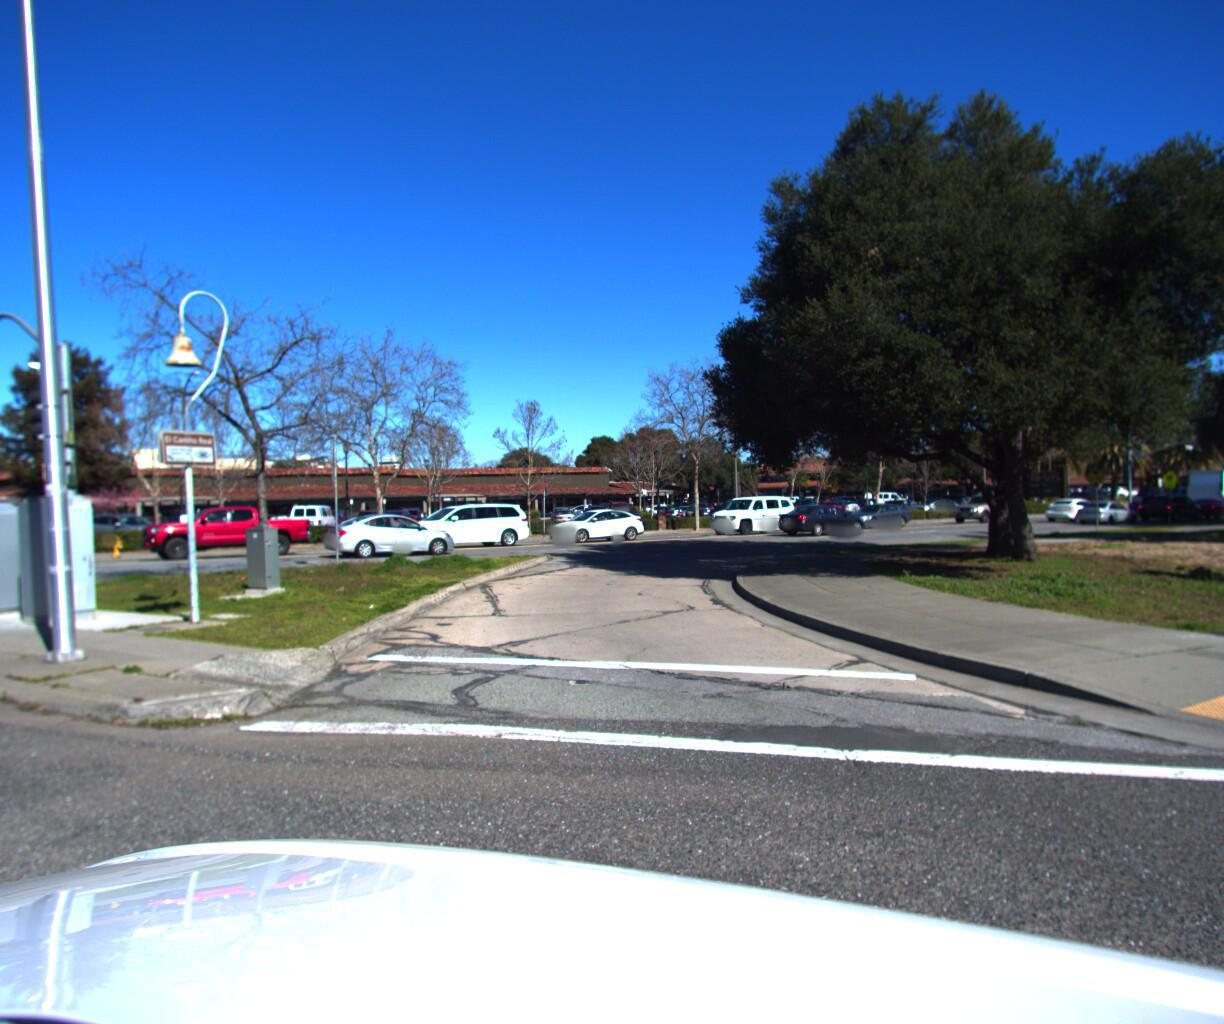car: (131, 500, 319, 565), (313, 508, 468, 560), (389, 498, 534, 550), (702, 482, 803, 534), (542, 502, 653, 541), (767, 498, 869, 534), (74, 508, 174, 542), (834, 495, 920, 531), (947, 489, 1020, 525), (1072, 496, 1147, 524), (1041, 493, 1111, 520), (1135, 495, 1204, 522), (880, 493, 940, 513), (922, 493, 980, 511), (1182, 491, 1224, 516), (1217, 490, 1224, 513)
truck: (1176, 460, 1224, 513)
